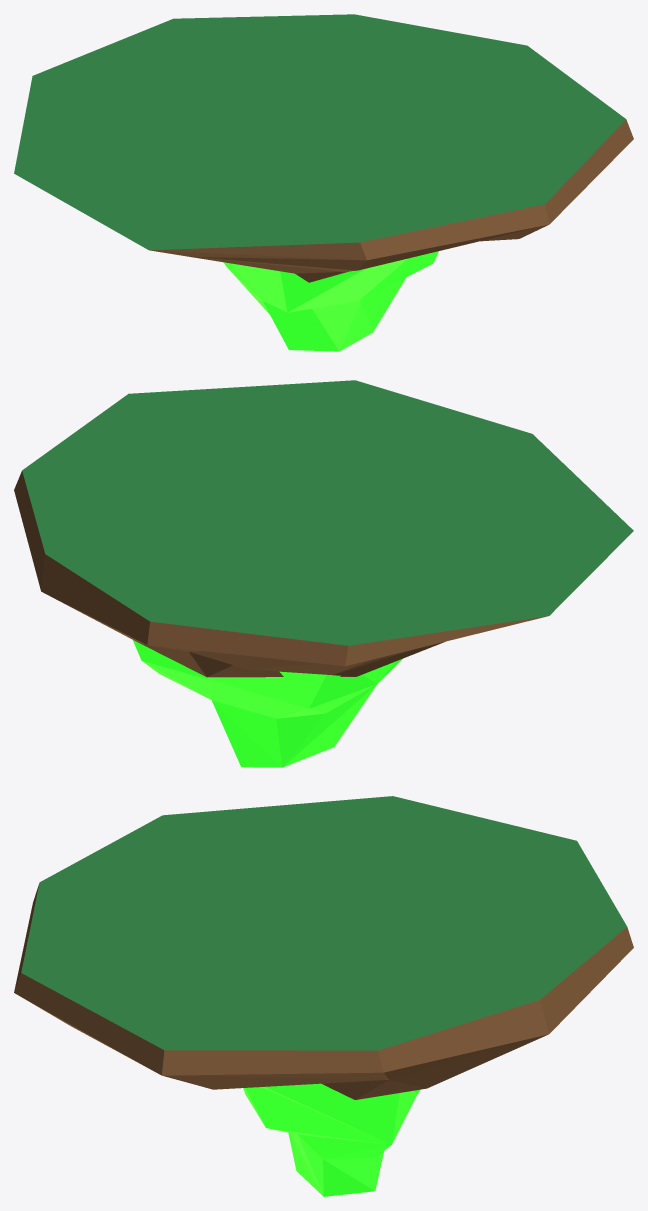
The model's file is House Island.fbx.
The picture shows the model from 3 angles, top to bottom: view 1: azimuth 30°, elevation 25°; view 2: azimuth 150°, elevation 25°; view 3: azimuth 270°, elevation 25°; orthographic projection. The views are drawn at different scales.
Parts seen in each view (by area): view 1: House Island; view 2: House Island; view 3: House Island.
Part boxes in pixels (x1,y1,x2,y2): House Island: [14, 14, 633, 351]; House Island: [14, 380, 633, 767]; House Island: [14, 796, 633, 1196].
Bounding box in the file's own units: 10.57 × 4.58 × 10.36.
